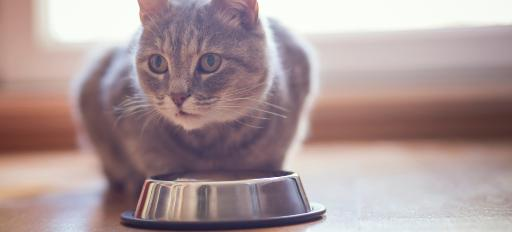cat_eating: (74, 0, 325, 227)
